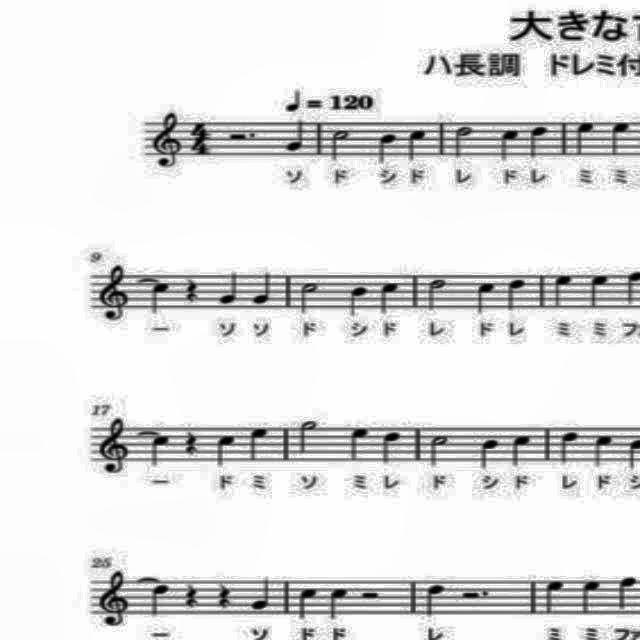Half-note: (448, 121, 480, 162), (421, 271, 451, 313), (294, 412, 322, 456), (326, 126, 354, 166), (296, 276, 324, 316), (426, 433, 454, 471)
Half-rest: (223, 125, 260, 145), (356, 582, 384, 606), (458, 586, 494, 602)
Quarter-note: (245, 572, 277, 614), (473, 431, 503, 475), (582, 267, 610, 313), (541, 572, 567, 620), (580, 571, 604, 623), (495, 124, 523, 168), (571, 118, 599, 162), (374, 276, 402, 320), (377, 425, 405, 469), (294, 582, 322, 626), (402, 125, 432, 165), (343, 422, 373, 462), (502, 270, 528, 316), (326, 581, 354, 623), (615, 568, 640, 615), (214, 272, 246, 308), (526, 118, 552, 162), (472, 274, 498, 318), (556, 428, 586, 466), (248, 268, 276, 308), (146, 432, 174, 472), (210, 430, 238, 470), (510, 428, 538, 468), (146, 580, 174, 620), (245, 421, 271, 464), (606, 116, 630, 162), (279, 119, 309, 155), (344, 281, 372, 319), (424, 578, 448, 622), (146, 277, 170, 317), (590, 430, 614, 470), (551, 270, 573, 310), (376, 132, 399, 168), (285, 90, 303, 114), (639, 568, 640, 615)
Quarter-rest: (180, 424, 206, 461), (182, 273, 206, 307), (212, 580, 236, 614), (178, 578, 202, 610)
Treble-clef: (145, 105, 187, 172), (96, 263, 136, 329), (93, 412, 133, 476), (93, 568, 133, 628)
